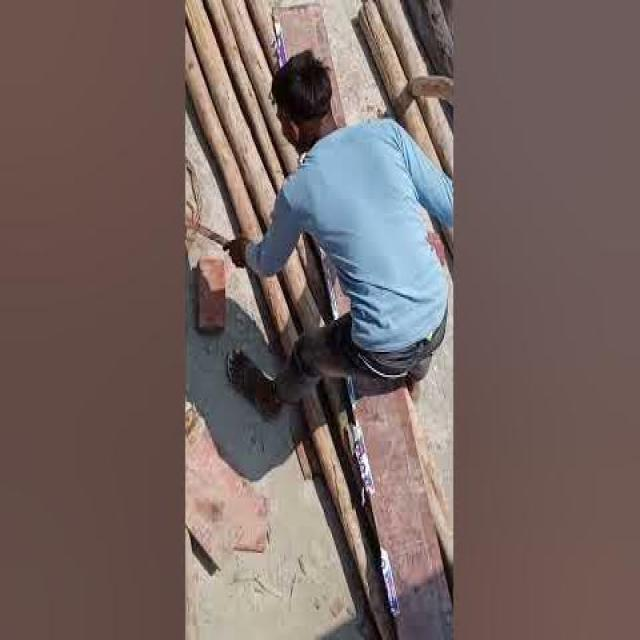no_boots: (224, 339, 290, 426), (398, 374, 429, 405)
no_gloves: (222, 227, 256, 273)
no_hardhat: (268, 49, 343, 157)
no_vest: (241, 116, 454, 365)
person: (216, 42, 456, 430)
